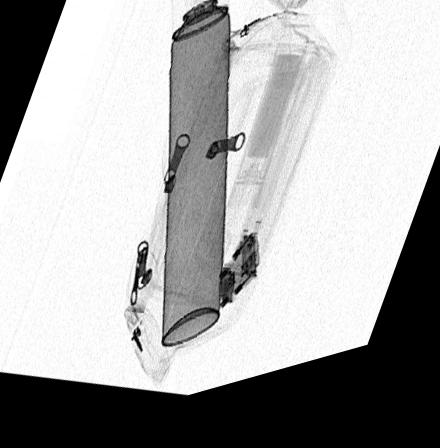Sprayer: (161, 0, 230, 356)
